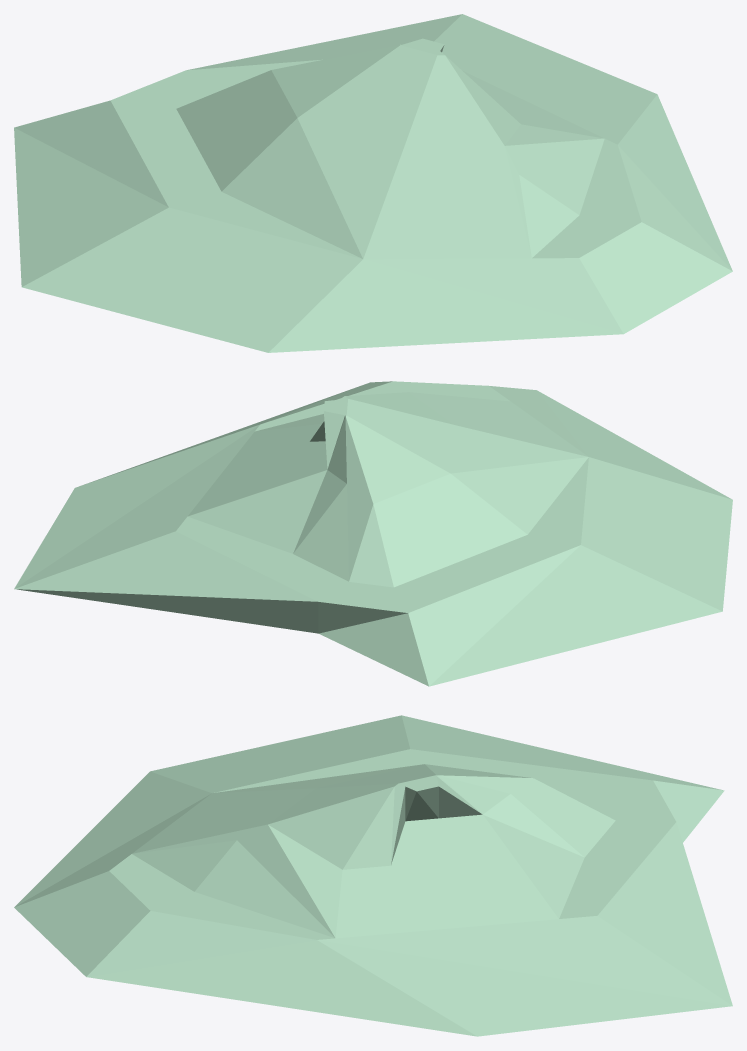
The model's file is terrain_massing1_v01.gltf.
The picture shows the model from 3 angles, top to bottom: view 1: azimuth 30°, elevation 25°; view 2: azimuth 150°, elevation 25°; view 3: azimuth 270°, elevation 25°; orthographic projection. The views are drawn at different scales.
Visible parts, largest first — view 1: massing 1; view 2: massing 1; view 3: massing 1.
Boxes of the visible parts, x1,y1,x2,y2 form: massing 1: (14, 14, 732, 352); massing 1: (14, 381, 732, 686); massing 1: (14, 715, 732, 1036).
Size of what is drawn, in the model's own units: 15.08 by 2.82 by 14.26.
